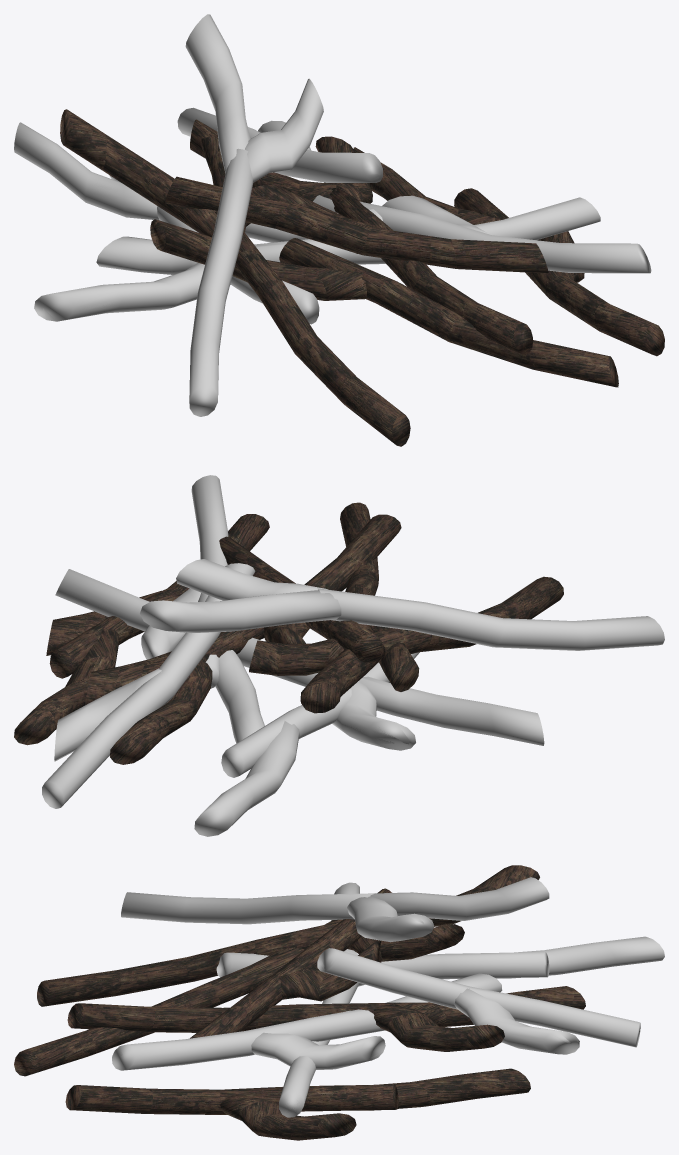
File: Wooden Sticks.obj
The picture shows the model from 3 angles, top to bottom: view 1: azimuth 30°, elevation 25°; view 2: azimuth 150°, elevation 25°; view 3: azimuth 270°, elevation 25°; orthographic projection. The views are drawn at different scales.
Visible parts, largest first — view 1: Mesh28 Group6 Model, Mesh44 Group9 Model, Mesh6 Group2 Model, Mesh47 Group10 Model, Mesh23 Group5 Model, Mesh49 Group10 Model, Mesh37 Group8 Model, Mesh33 Group7 Model, Mesh17 Group4 Model, Mesh5 Group2 Model, Mesh11 Group3 Model, Mesh43 Group9 Model (+12 smaller); view 2: Mesh6 Group2 Model, Mesh2 Group1 Model, Mesh5 Group2 Model, Mesh17 Group4 Model, Mesh11 Group3 Model, Mesh38 Group8 Model, Mesh37 Group8 Model, Mesh32 Group7 Model, Mesh33 Group7 Model, Mesh47 Group10 Model, Mesh15 Group4 Model, Mesh12 Group3 Model (+14 smaller); view 3: Mesh2 Group1 Model, Mesh33 Group7 Model, Mesh47 Group10 Model, Mesh6 Group2 Model, Mesh23 Group5 Model, Mesh44 Group9 Model, Mesh37 Group8 Model, Mesh12 Group3 Model, Mesh5 Group2 Model, Mesh28 Group6 Model, Mesh39 Group8 Model, Mesh32 Group7 Model (+11 smaller).
Part boxes in pixels (<box>): Mesh28 Group6 Model: <box>165,176,548,273</box>; Mesh44 Group9 Model: <box>279,238,618,387</box>; Mesh6 Group2 Model: <box>189,148,253,416</box>; Mesh47 Group10 Model: <box>214,211,410,446</box>; Mesh23 Group5 Model: <box>313,195,651,273</box>; Mesh49 Group10 Model: <box>60,109,217,237</box>; Mesh37 Group8 Model: <box>329,187,532,354</box>; Mesh33 Group7 Model: <box>454,188,664,356</box>; Mesh17 Group4 Model: <box>34,262,230,321</box>; Mesh5 Group2 Model: <box>185,14,250,173</box>; Mesh11 Group3 Model: <box>14,122,158,220</box>; Mesh43 Group9 Model: <box>150,219,366,300</box>; Mesh6 Group2 Model: <box>318,588,664,650</box>; Mesh2 Group1 Model: <box>42,563,255,808</box>; Mesh5 Group2 Model: <box>140,590,341,633</box>; Mesh17 Group4 Model: <box>359,676,544,745</box>; Mesh11 Group3 Model: <box>194,721,299,836</box>; Mesh38 Group8 Model: <box>110,653,212,764</box>; Mesh37 Group8 Model: <box>205,514,401,657</box>; Mesh32 Group7 Model: <box>14,629,119,745</box>; Mesh33 Group7 Model: <box>49,514,269,678</box>; Mesh47 Group10 Model: <box>373,576,563,660</box>; Mesh15 Group4 Model: <box>55,569,317,686</box>; Mesh12 Group3 Model: <box>221,652,419,777</box>; Mesh2 Group1 Model: <box>317,948,640,1047</box>; Mesh33 Group7 Model: <box>65,1084,398,1114</box>; Mesh47 Group10 Model: <box>37,921,340,1006</box>; Mesh6 Group2 Model: <box>121,892,374,924</box>; Mesh23 Group5 Model: <box>112,1002,399,1070</box>; Mesh44 Group9 Model: <box>14,947,300,1076</box>; Mesh37 Group8 Model: <box>67,1002,396,1032</box>; Mesh12 Group3 Model: <box>216,952,549,979</box>; Mesh5 Group2 Model: <box>370,877,549,920</box>; Mesh28 Group6 Model: <box>190,888,391,1038</box>; Mesh39 Group8 Model: <box>373,1004,504,1051</box>; Mesh32 Group7 Model: <box>334,1068,530,1110</box>.
Size of the model in its own units: 7.69 by 2.83 by 9.76.
